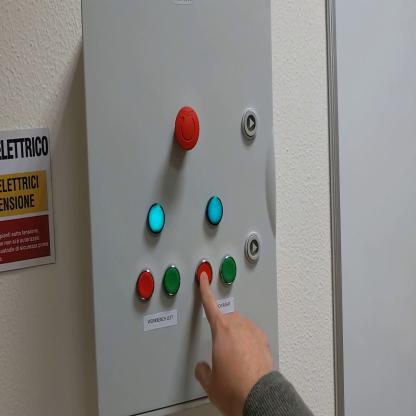hand: (194, 271, 275, 415)
left green button: (164, 263, 182, 299)
left red button: (135, 269, 157, 307)
right green button: (222, 256, 239, 287)
right red button: (197, 261, 214, 292)
